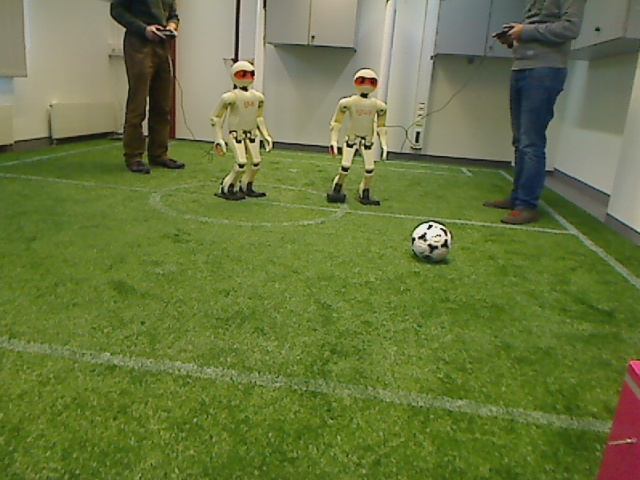ball: (407, 219, 456, 266)
robot: (215, 59, 275, 202), (327, 66, 386, 206)
